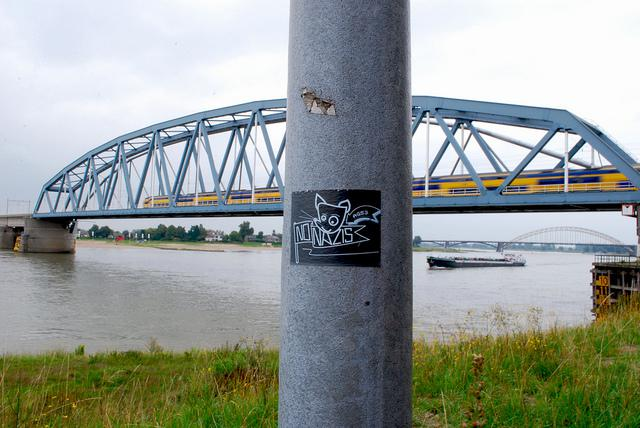Train: (144, 169, 640, 210)
